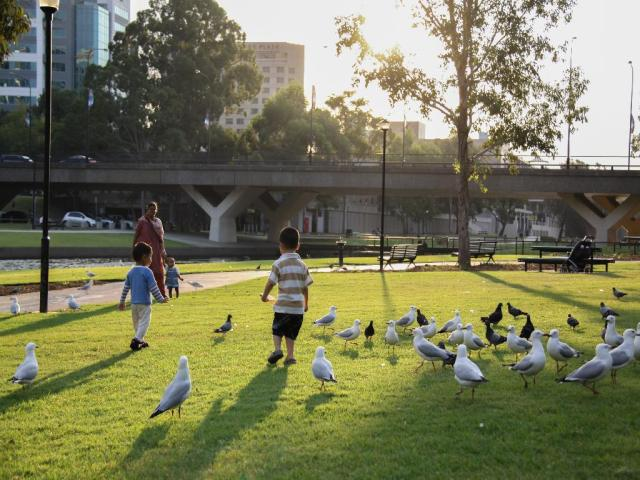Bird: (396, 304, 490, 403), (552, 302, 640, 396), (148, 354, 192, 419), (508, 328, 552, 386), (5, 342, 40, 399), (547, 326, 586, 373), (310, 344, 337, 392), (505, 324, 532, 363), (332, 316, 362, 350), (482, 319, 506, 353), (313, 305, 340, 335), (382, 320, 400, 356), (212, 311, 234, 338), (479, 302, 502, 325), (506, 301, 528, 319), (568, 310, 583, 333), (65, 294, 83, 313), (363, 318, 375, 344), (8, 295, 21, 316), (75, 280, 94, 294), (614, 286, 628, 300), (84, 270, 98, 280)
